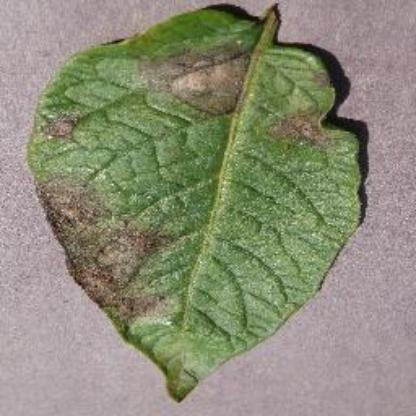Late-Blight: (18, 5, 408, 407)
